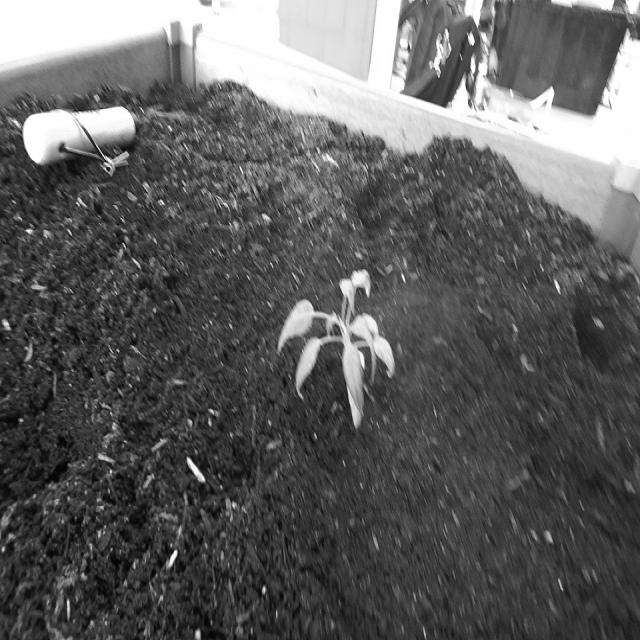Healthy: (272, 264, 403, 436)
